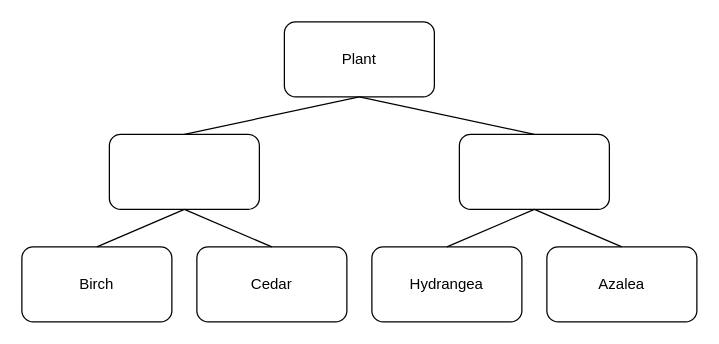
The diagram is 719 pixels wide and 344 high, and some of its shapes have lost their labels. The shapes that lost their labels are listed below. From the top down, each one's centre as x and y in pixels, then its label:
(x=183, y=171): Tree
(x=533, y=171): Shrub
